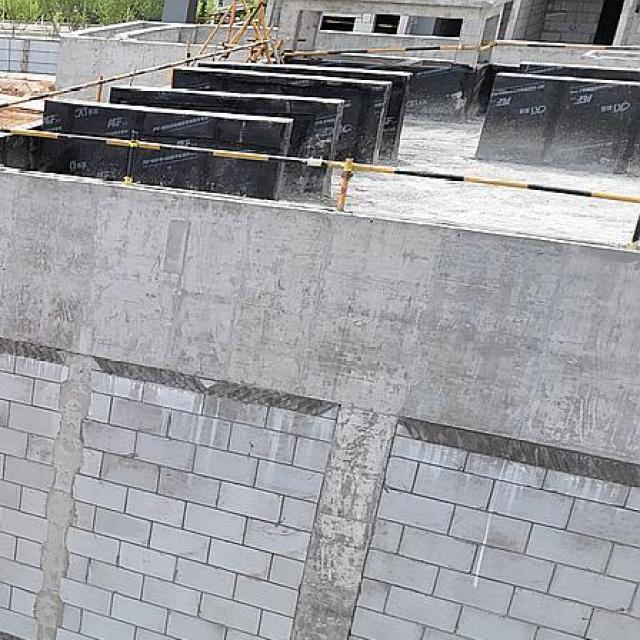edge_guardrail: (0, 126, 640, 241), (0, 40, 273, 110), (283, 38, 640, 56)
